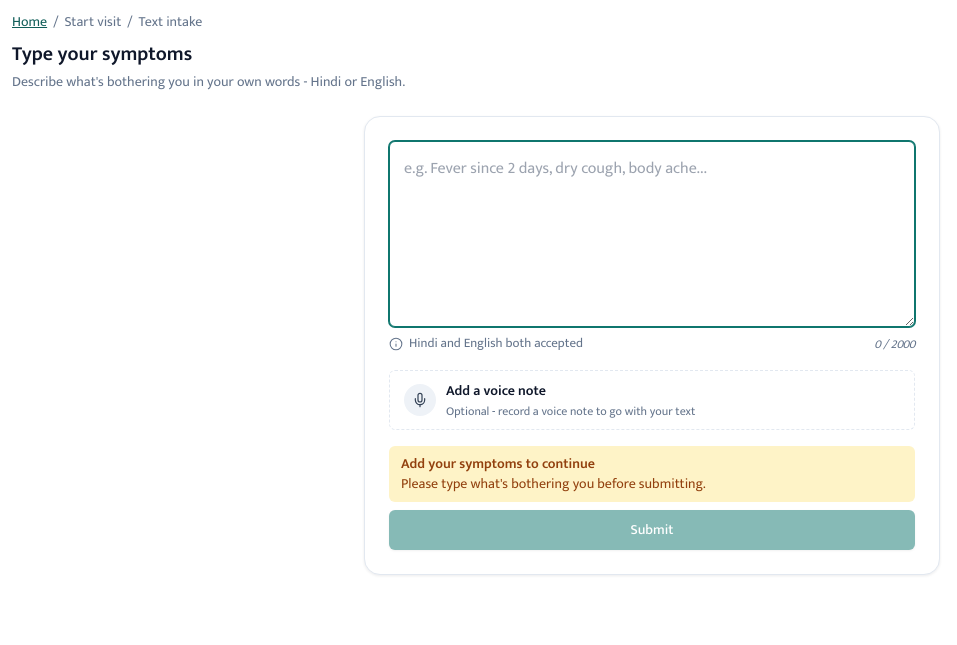
Test: TextIntakePage failure paths (no silent loss, non-blocking note) › returns to the form with text preserved when a text-only submit fails
In the text box with test id "textarea": (652, 234) 389,141 -> 915,327, type "fever since two days"
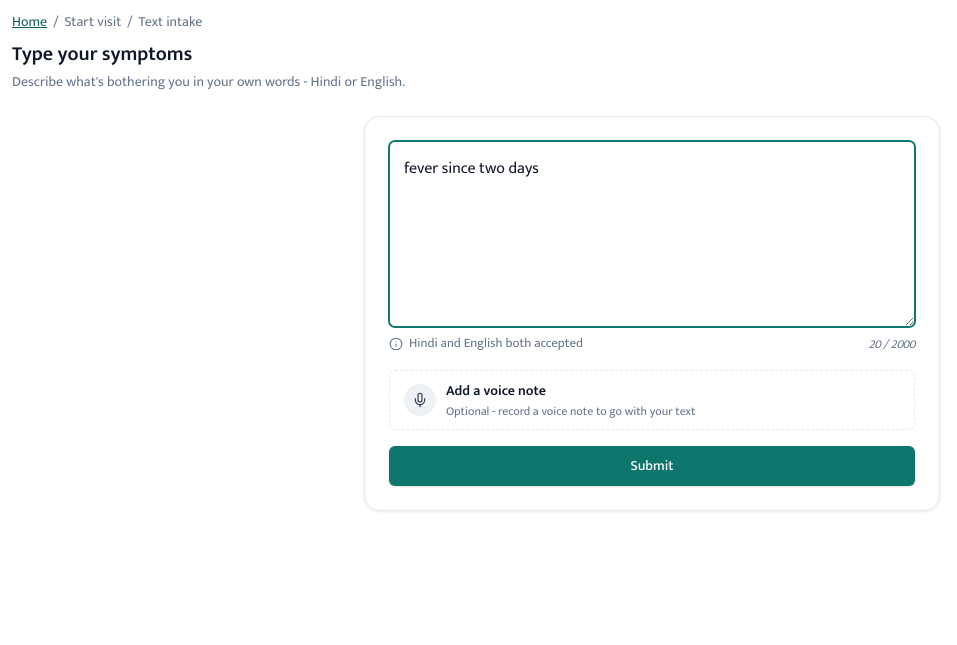
Click the button with test id "btn-submit": (652, 466) 389,446 -> 915,486
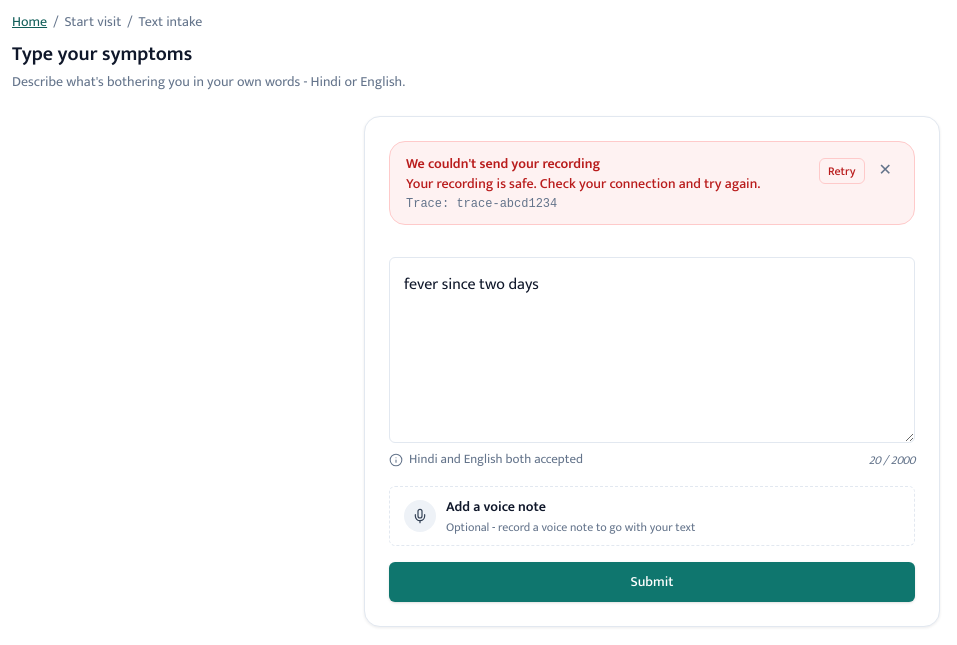
expect the message with test id "error-banner" shows "We couldn't send your recording": met, box 406,152 -> 600,175
expect the text with test id "error-banner-trace-id" shows "trace-abcd1234": met, box 456,197 -> 557,211
Click the button with test id "error-banner-retry": (842, 171) 819,158 -> 865,184
Wait 2000 ms
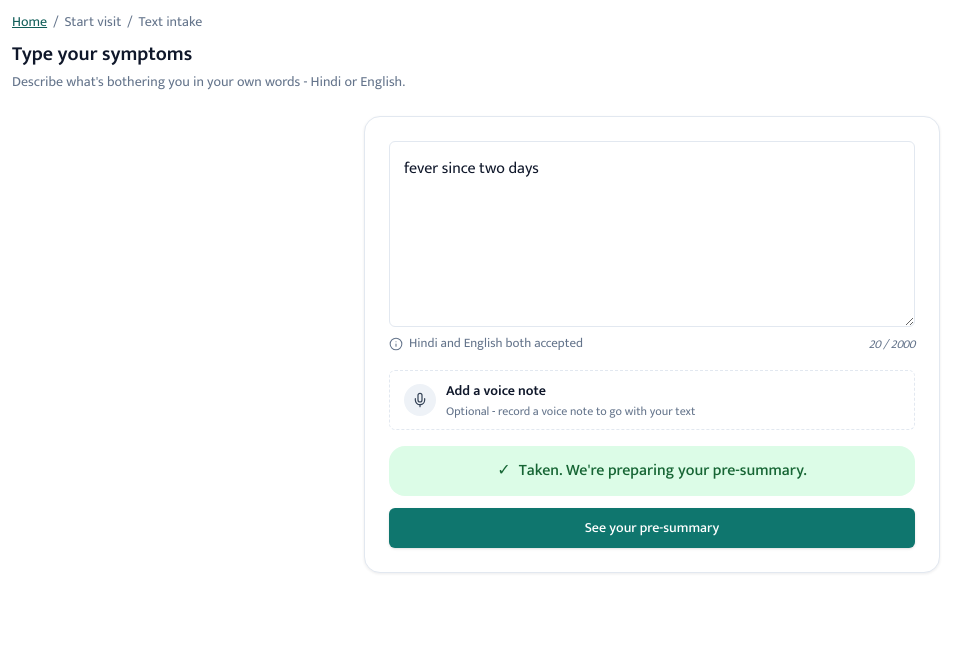
expect the element with test id "done-zone" is shown: met, box 389,446 -> 915,548
